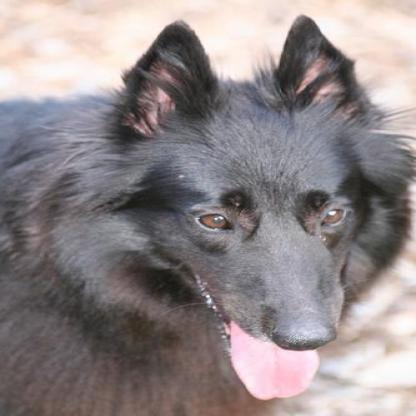groenendael: (0, 12, 412, 413)
